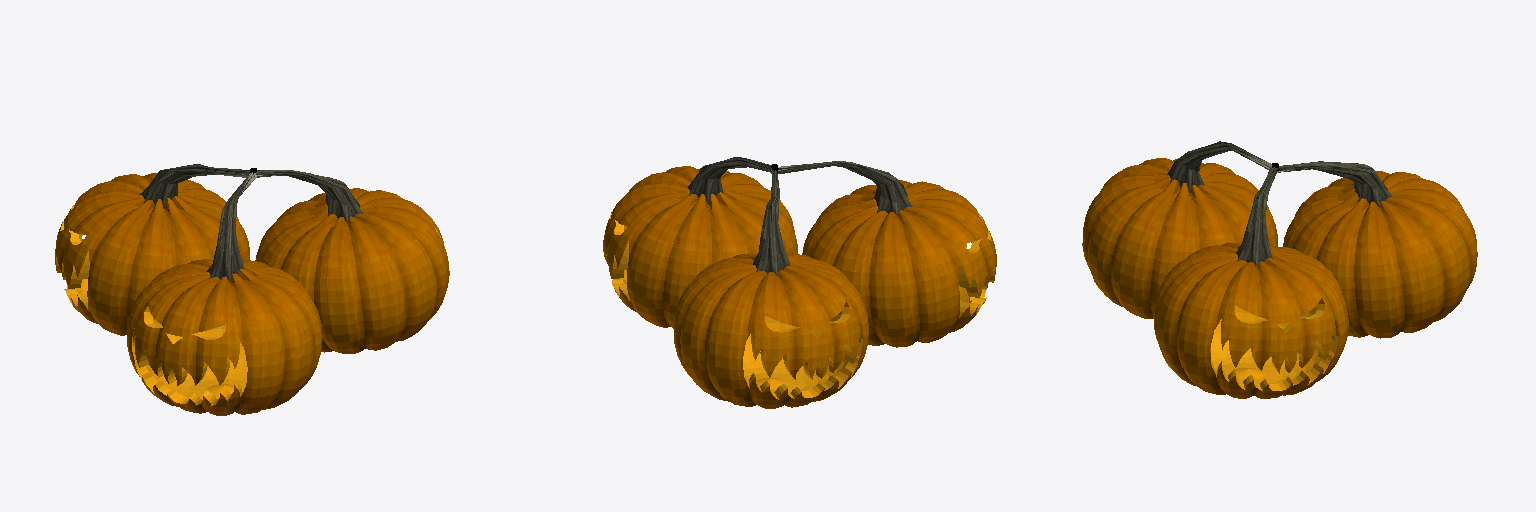
The picture shows the model from 3 angles: view 1: azimuth 30°, elevation 25°; view 2: azimuth 150°, elevation 25°; view 3: azimuth 270°, elevation 25°; orthographic projection.
Parts seen in each view (by area): view 1: Pumpkins; view 2: Pumpkins; view 3: Pumpkins.
Boxes of the visible parts, <box> form: Pumpkins: <box>55,164,449,415</box>; Pumpkins: <box>603,157,996,408</box>; Pumpkins: <box>1082,141,1477,398</box>.
Bounding box in the file's own units: 1.15 × 0.5969 × 1.19.
2 materials, 1 textured.